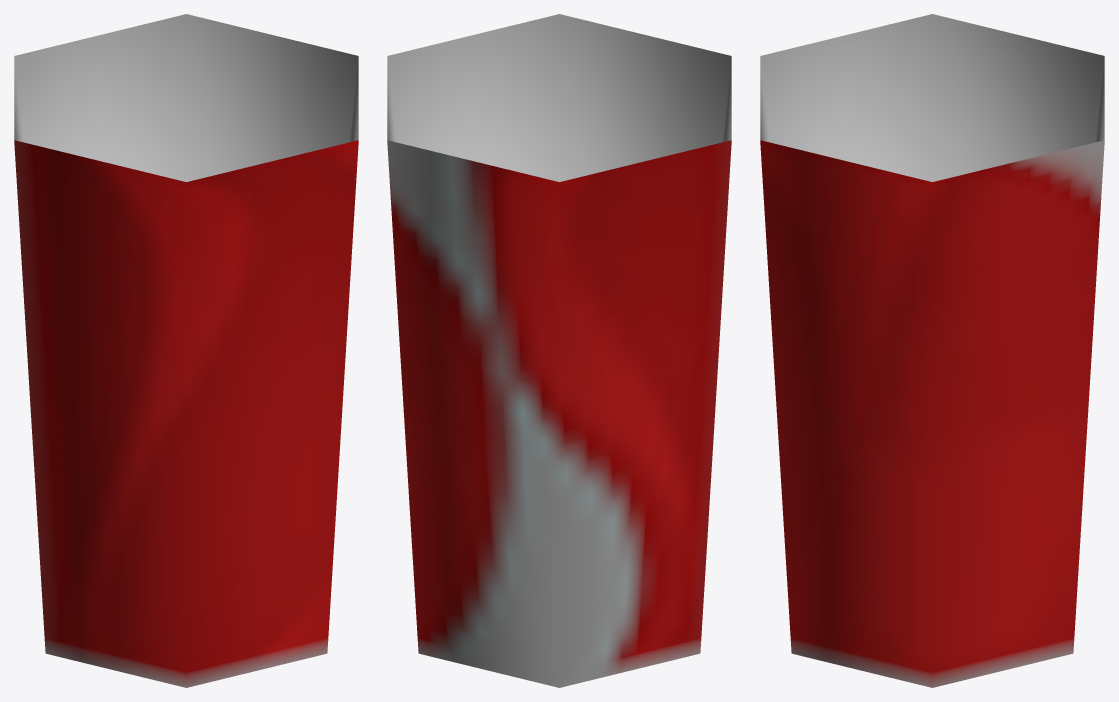
Rendered from SoftDrinkGlass_C.fbx.
The picture shows the model from 3 angles, left to right: view 1: azimuth 30°, elevation 25°; view 2: azimuth 150°, elevation 25°; view 3: azimuth 270°, elevation 25°; orthographic projection.
Visible parts, largest first — view 1: SoftDrinkGlass_C; view 2: SoftDrinkGlass_C; view 3: SoftDrinkGlass_C.
Part boxes in pixels (x1=…): SoftDrinkGlass_C: x1=14, y1=14, x2=358, y2=687; SoftDrinkGlass_C: x1=387, y1=14, x2=731, y2=687; SoftDrinkGlass_C: x1=760, y1=14, x2=1104, y2=687.
Size of the model in its own units: 0.134 by 0.1936 by 0.116.
